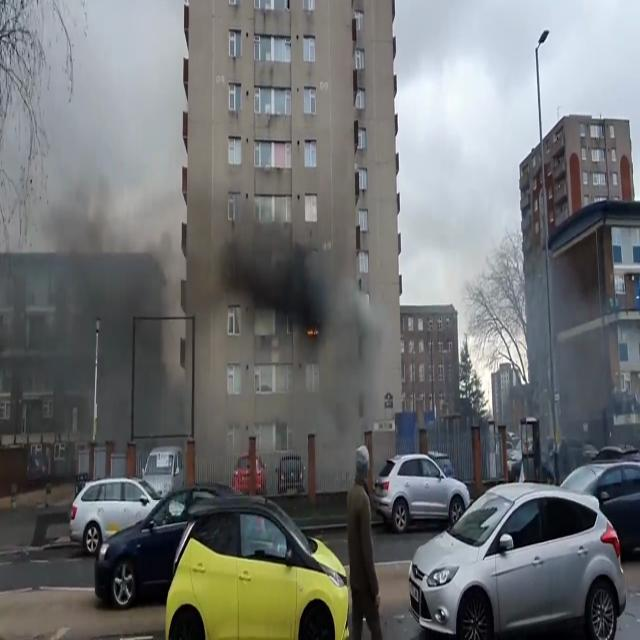Smoke: (24, 124, 194, 453), (202, 197, 393, 441)
